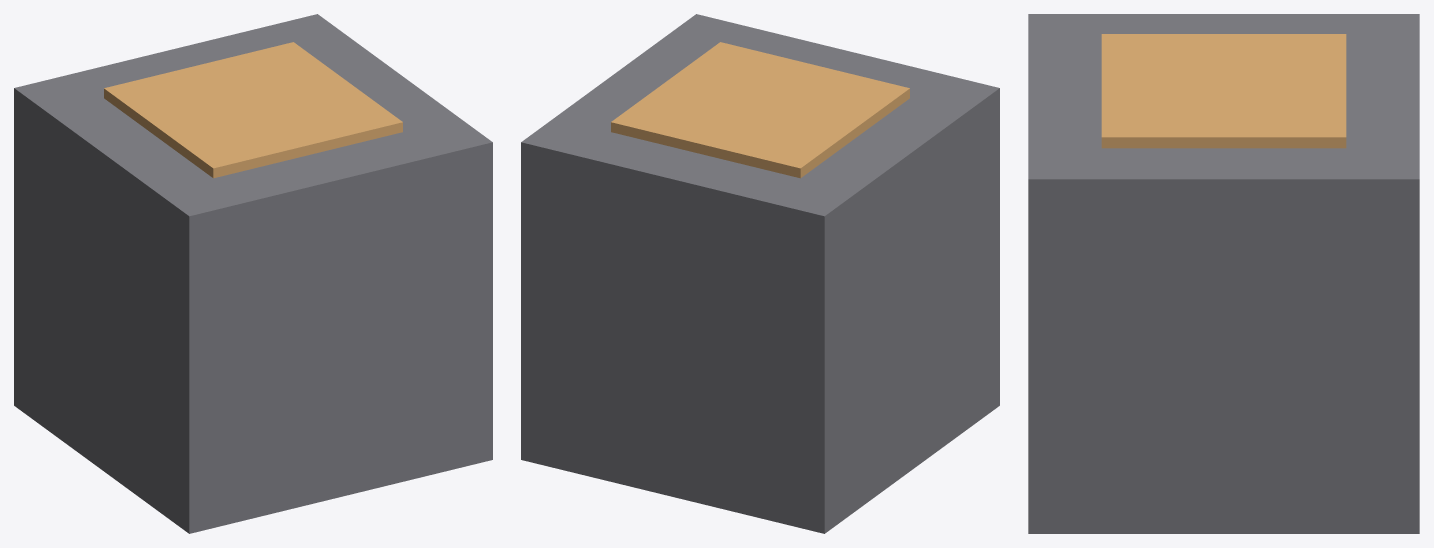
The model's file is cable_core.glb.
3 views of the same model, side by side, from view 1: azimuth 30°, elevation 25°; view 2: azimuth 150°, elevation 25°; view 3: azimuth 270°, elevation 25° (orthographic). The views are drawn at different scales.
Bounding box in the file's own units: 0.32 × 0.34 × 0.32.
